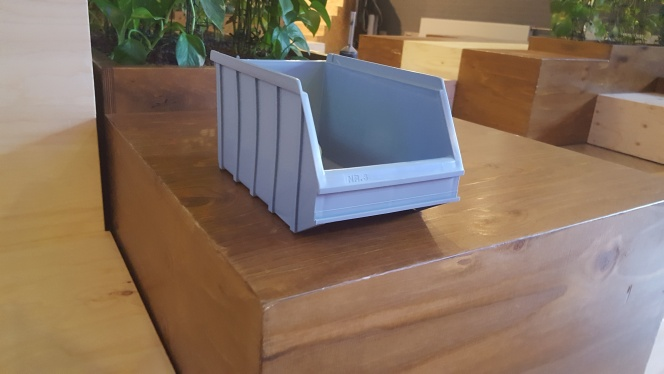tray_front: (298, 71, 464, 228)
tray_left: (206, 49, 319, 242)
